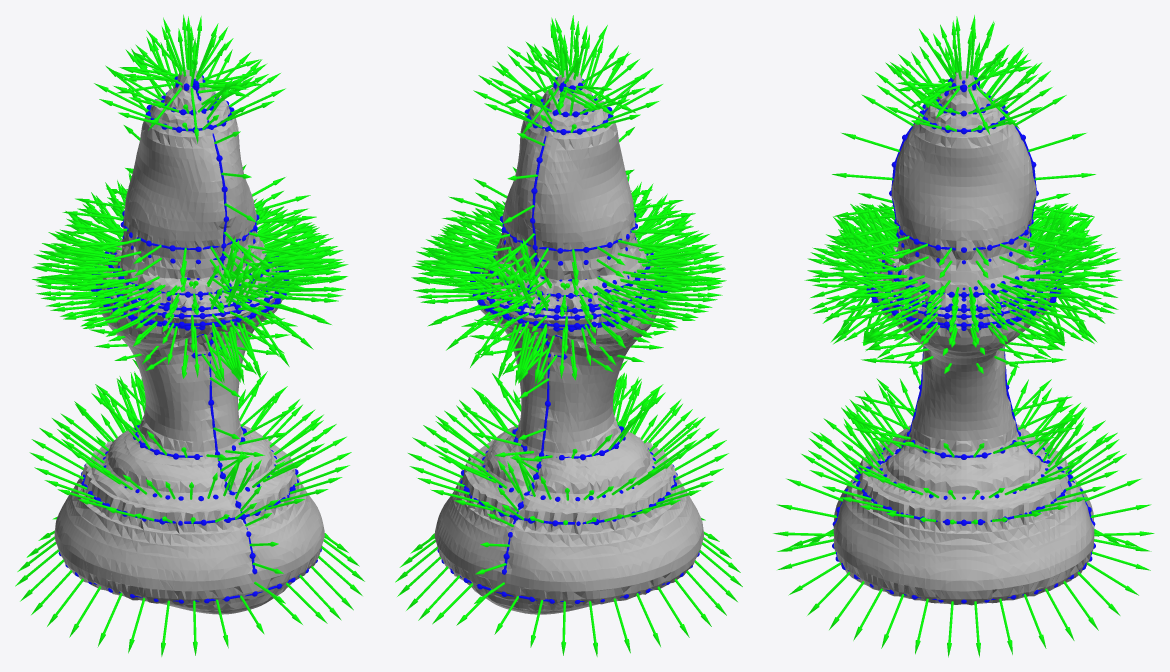
The model's file is onshape_bishop.gltf.
The picture shows the model from 3 angles, left to right: view 1: azimuth 30°, elevation 25°; view 2: azimuth 150°, elevation 25°; view 3: azimuth 270°, elevation 25°; orthographic projection.
Bounding box in the file's own units: 0.5529 × 0.9833 × 0.6069.
